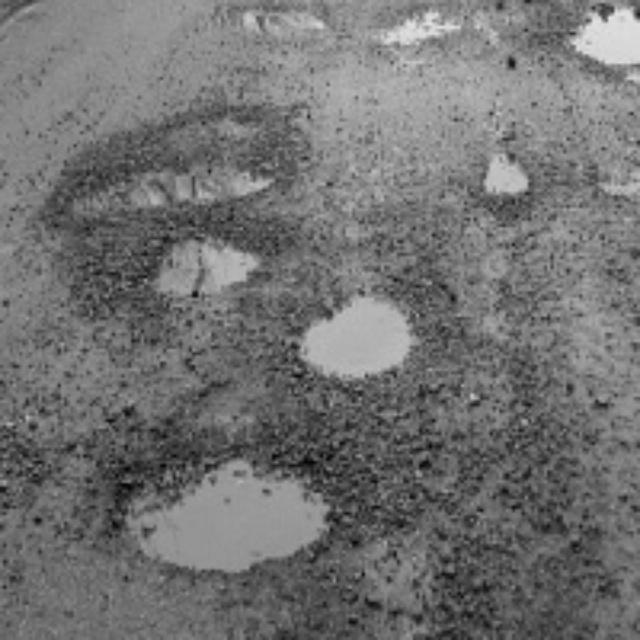Pothole: (150, 445, 306, 563), (105, 122, 237, 214), (299, 271, 411, 375), (224, 2, 342, 60), (153, 234, 262, 292), (558, 0, 640, 68), (377, 2, 452, 52), (464, 142, 524, 196), (603, 141, 638, 199)
